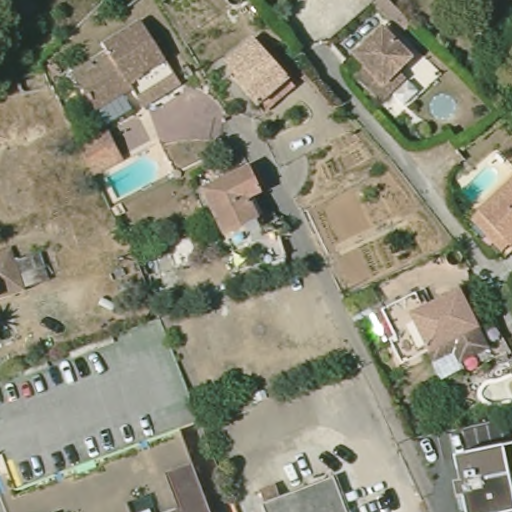pool: (100, 155, 164, 199), (456, 162, 502, 207)
